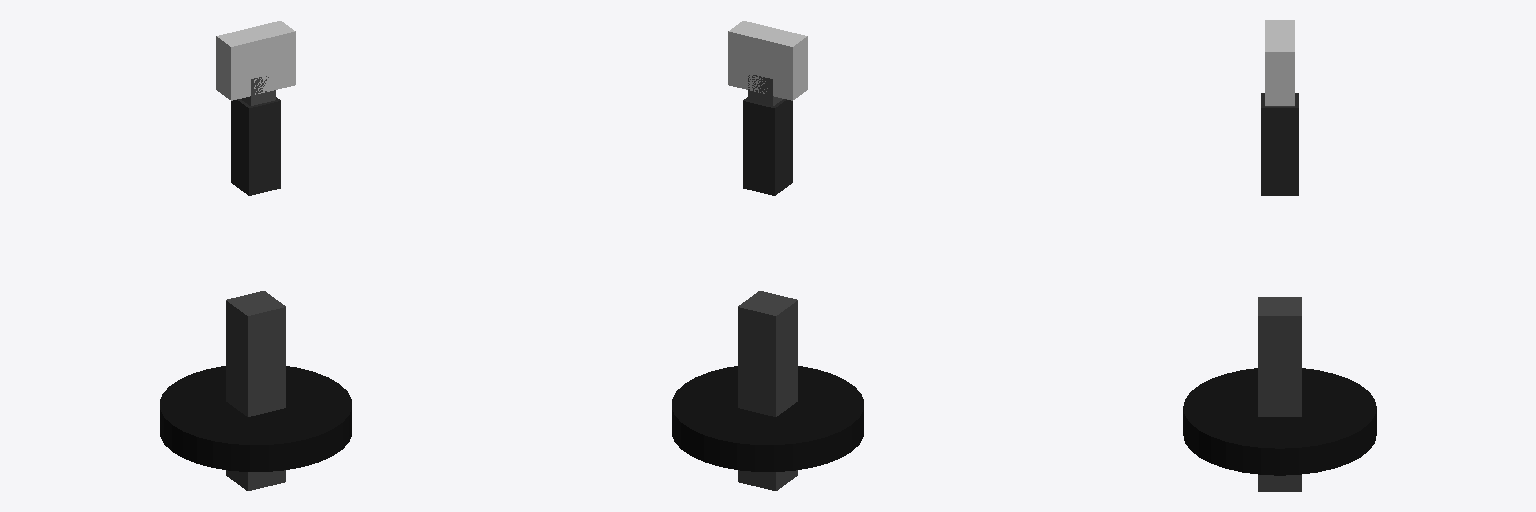
The robot description file, URDF, robot "table_arm":
<?xml version="1.0"?>
<robot name="table_arm">

  <!-- base link -->
  <link name="base_link">
    <visual>
      <origin xyz="0 0 0" rpy="0 0 0"/>
      <geometry>
        <!--@li--><cylinder radius="0.065" length="0.02"/> <!-- 直径13cm，高2cm -->
      </geometry>
      <material name="black">
        <color rgba="0.1 0.1 0.1 1.0"/>
      </material>
    </visual>
    <collision>
      <origin xyz="0 0 0" rpy="0 0 0"/>
      <geometry>
        <!--@li--><cylinder radius="0.065" length="0.02"/>
      </geometry>
    </collision>
  </link>

  <!-- shoulder link (shoulder→elbow) -->
  <link name="shoulder_link">
    <visual>
      <origin xyz="0 0 0.01" rpy="0 0 0"/> <!-- raise from base top -->
      <geometry>
        <!--@li--><box size="0.03 0.03 0.13"/> <!-- 长约13cm -->
      </geometry>
      <material name="gray">
        <color rgba="0.3 0.3 0.3 1.0"/>
      </material>
    </visual>
    <collision>
      <origin xyz="0 0 0.01" rpy="0 0 0"/>
      <geometry>
        <!--@li--><box size="0.03 0.03 0.13"/>
      </geometry>
    </collision>
  </link>

  <!-- elbow link (elbow→wrist) -->
  <link name="elbow_link">
    <visual>
      <origin xyz="0 0 0.065" rpy="0 0 0"/>
      <geometry>
        <!--@li--><box size="0.025 0.025 0.065"/> <!-- 6.5cm -->
      </geometry>
      <material name="gray_dark">
        <color rgba="0.2 0.2 0.2 1.0"/>
      </material>
    </visual>
    <collision>
      <origin xyz="0 0 0.065" rpy="0 0 0"/>
      <geometry>
        <!--@li--><box size="0.025 0.025 0.065"/>
      </geometry>
    </collision>
  </link>

  <!-- wrist link (wrist→gripper mount) -->
  <link name="wrist_link">
    <visual>
      <origin xyz="0 0 0.0325" rpy="0 0 0"/>
      <geometry>
        <!--@li--><box size="0.02 0.02 0.04"/> <!-- 4cm -->
      </geometry>
      <material name="gray_mid">
        <color rgba="0.35 0.35 0.35 1.0"/>
      </material>
    </visual>
    <collision>
      <origin xyz="0 0 0.0325" rpy="0 0 0"/>
      <geometry>
        <!--@li--><box size="0.02 0.02 0.04"/>
      </geometry>
    </collision>
  </link>

  <!-- gripper link (simple block; width 5cm) -->
  <link name="gripper_link">
    <visual>
      <origin xyz="0 0 0.02" rpy="0 0 0"/>
      <geometry>
        <!--@li--><box size="0.05 0.02 0.04"/> <!-- 宽5cm，厚2cm，深4cm占位 -->
      </geometry>
      <material name="white">
        <color rgba="0.8 0.8 0.8 1.0"/>
      </material>
    </visual>
    <collision>
      <origin xyz="0 0 0.02" rpy="0 0 0"/>
      <geometry>
        <!--@li--><box size="0.05 0.02 0.04"/>
      </geometry>
    </collision>
  </link>

  <!-- joints (example revolute chain, adjust axes/origins as needed) -->
  <joint name="base_to_shoulder" type="revolute">
    <parent link="base_link"/>
    <child link="shoulder_link"/>
    <origin xyz="0 0 0.01" rpy="0 0 0"/> <!-- at base top -->
    <axis xyz="0 0 1"/>
    <limit effort="5" velocity="2" lower="-3.14" upper="3.14"/>
  </joint>

  <joint name="shoulder_to_elbow" type="revolute">
    <parent link="shoulder_link"/>
    <child link="elbow_link"/>
    <origin xyz="0 0 0.13" rpy="0 0 0"/>
    <axis xyz="0 1 0"/>
    <limit effort="5" velocity="2" lower="-1.57" upper="1.57"/>
  </joint>

  <joint name="elbow_to_wrist" type="revolute">
    <parent link="elbow_link"/>
    <child link="wrist_link"/>
    <origin xyz="0 0 0.065" rpy="0 0 0"/>
    <axis xyz="0 1 0"/>
    <limit effort="5" velocity="2" lower="-1.57" upper="1.57"/>
  </joint>

  <joint name="wrist_to_gripper" type="fixed">
    <parent link="wrist_link"/>
    <child link="gripper_link"/>
    <origin xyz="0 0 0.04" rpy="0 0 0"/>
  </joint>

</robot>

--- What the picture shows (computed from the rendered views, not written in the file) ---
Views: 3 orthographic renders of the robot side by side, from view 1: azimuth 30°, elevation 25°; view 2: azimuth 150°, elevation 25°; view 3: azimuth 270°, elevation 25°.
Model table_arm with 5 links and 4 joints (3 revolute, 1 fixed), rooted at base_link, posed all joints at 0.
Visible links, largest first — view 1: base_link, shoulder_link, gripper_link, elbow_link; view 2: base_link, shoulder_link, gripper_link, elbow_link, wrist_link; view 3: base_link, shoulder_link, elbow_link, gripper_link.
Link boxes in pixels (bbox=[...]): base_link: bbox=[160, 366, 351, 471]; shoulder_link: bbox=[226, 291, 285, 490]; gripper_link: bbox=[216, 21, 295, 100]; elbow_link: bbox=[231, 97, 280, 195]; base_link: bbox=[672, 366, 863, 471]; shoulder_link: bbox=[738, 291, 797, 490]; gripper_link: bbox=[728, 21, 807, 100]; elbow_link: bbox=[743, 97, 792, 195]; wrist_link: bbox=[748, 75, 782, 105]; base_link: bbox=[1183, 368, 1376, 475]; shoulder_link: bbox=[1258, 297, 1301, 491]; elbow_link: bbox=[1261, 93, 1298, 195]; gripper_link: bbox=[1265, 20, 1294, 105].
Size in the robot's own frame: 0.13 by 0.13 by 0.33 metres.
Geometry: primitives only (box / cylinder / sphere), no mesh files.
